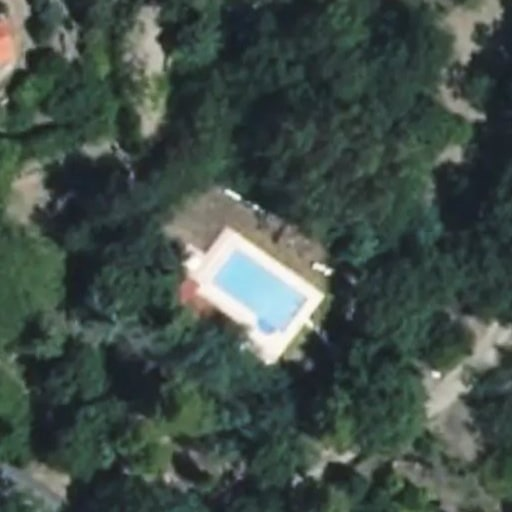pool: (211, 247, 307, 335)
